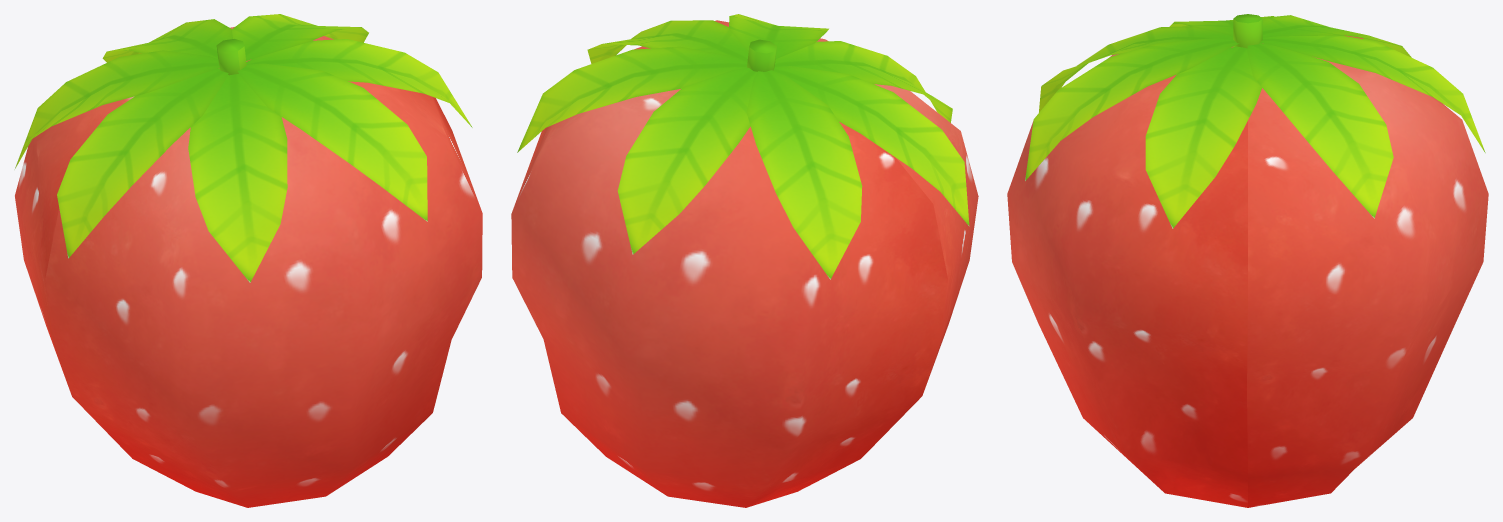
The model's file is Strawberry.glb.
The picture shows the model from 3 angles, left to right: view 1: azimuth 30°, elevation 25°; view 2: azimuth 150°, elevation 25°; view 3: azimuth 270°, elevation 25°; orthographic projection.
Visible parts, largest first — view 1: Cube_Material.001_0; view 2: Cube_Material.001_0; view 3: Cube_Material.001_0.
Boxes of the visible parts, <box> form: Cube_Material.001_0: <box>14,14,482,507</box>; Cube_Material.001_0: <box>511,14,978,507</box>; Cube_Material.001_0: <box>1007,14,1488,507</box>.
Bounding box in the file's own units: 0.4108 × 0.4326 × 0.4135.
1 material, 1 textured.
